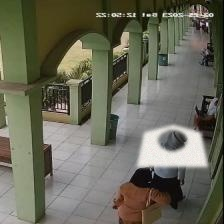Mukena: (137, 124, 207, 167)
